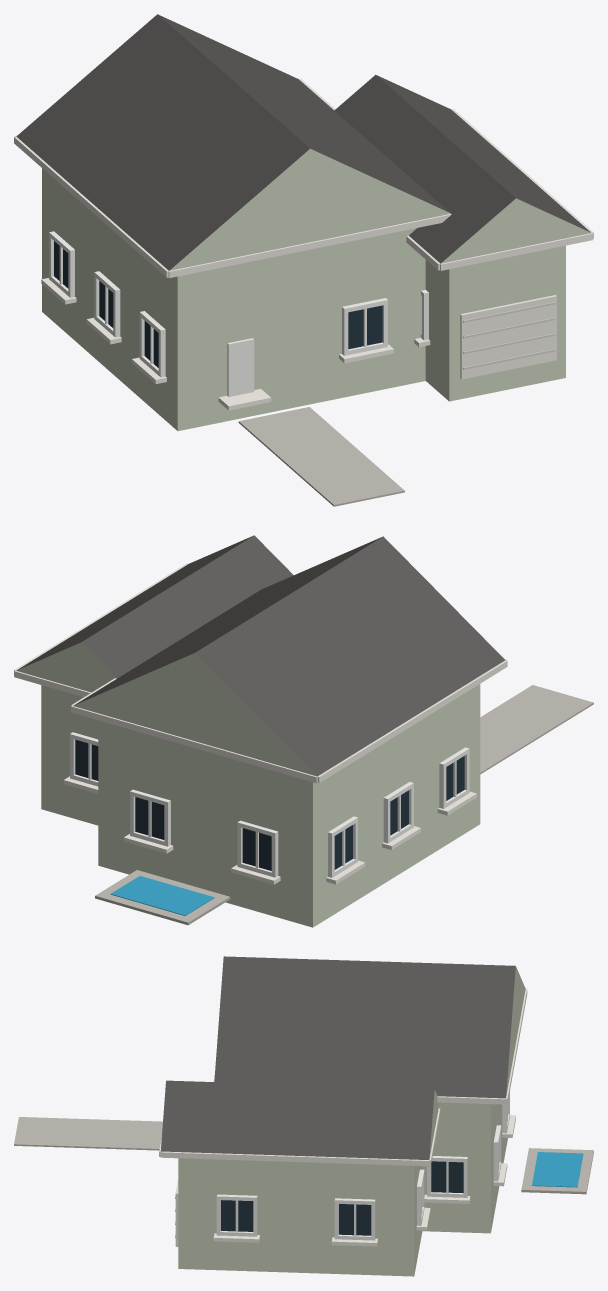
The picture shows the model from 3 angles, top to bottom: view 1: azimuth 30°, elevation 25°; view 2: azimuth 150°, elevation 25°; view 3: azimuth 270°, elevation 25°; orthographic projection. The views are drawn at different scales.
Parts seen in each view (by area): view 1: b2525; view 2: b2525; view 3: b2525.
Part boxes in pixels (x1,y1,x2,y2): b2525: (14, 14, 593, 506); b2525: (14, 535, 593, 927); b2525: (14, 956, 593, 1276).
Size of the model in its own units: 5944 by 3720 by 8890.
